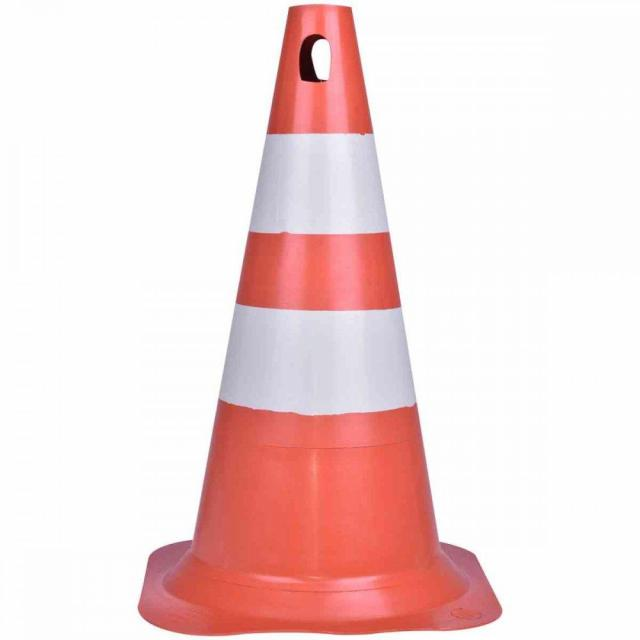cone: (128, 6, 498, 640)
